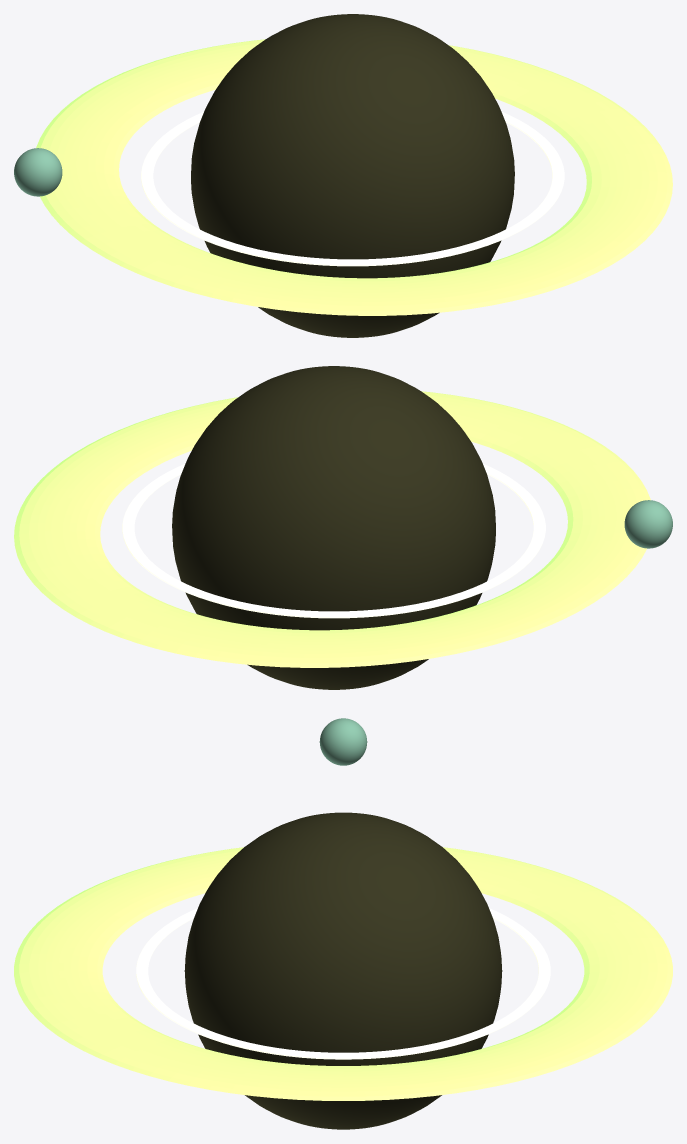
File: planete_about.glb
The picture shows the model from 3 angles, top to bottom: view 1: azimuth 30°, elevation 25°; view 2: azimuth 150°, elevation 25°; view 3: azimuth 270°, elevation 25°; orthographic projection. The views are drawn at different scales.
Parts seen in each view (by area): view 1: planete, anneau, satellite; view 2: planete, anneau, satellite; view 3: planete, anneau, satellite.
Part boxes in pixels (x1=…): planete: x1=191, y1=14, x2=514, y2=337; anneau: x1=36, y1=39, x2=672, y2=315; satellite: x1=14, y1=148, x2=62, y2=196; planete: x1=172, y1=366, x2=495, y2=689; anneau: x1=14, y1=391, x2=650, y2=667; satellite: x1=624, y1=500, x2=672, y2=548; planete: x1=184, y1=812, x2=502, y2=1129; anneau: x1=14, y1=847, x2=672, y2=1100; satellite: x1=319, y1=718, x2=367, y2=765.
Size of the model in its own units: 10 by 4.62 by 9.59.
